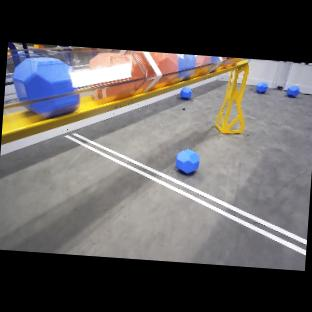Autolimit: (64, 133, 306, 255)
Goal: (0, 41, 250, 145)
V5_BLUE: (175, 149, 199, 174), (255, 82, 268, 94), (179, 87, 191, 100), (294, 86, 299, 96)
blueingoal: (12, 57, 74, 100), (29, 94, 79, 118), (178, 54, 198, 71), (178, 69, 195, 78), (206, 56, 220, 63)
redingoal: (89, 50, 183, 102), (191, 65, 209, 77), (193, 55, 212, 66)
